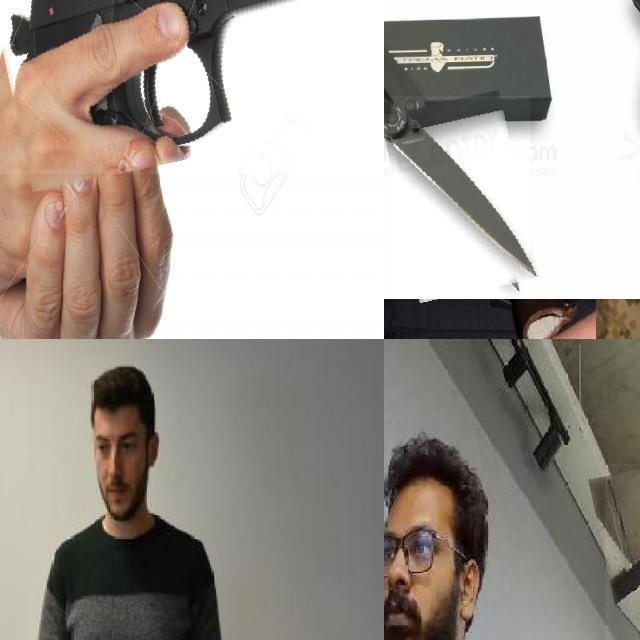-: (390, 96, 530, 298)
gun-knife-thesis - v11 Yolov5 augmented: (0, 0, 384, 173)
